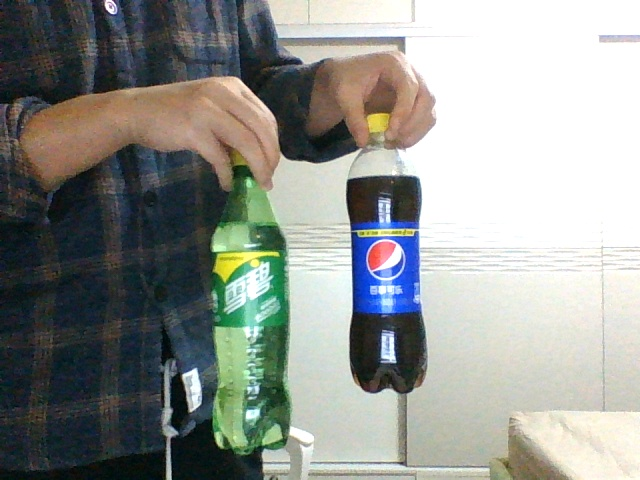Cola: (346, 111, 429, 393)
Sprite: (208, 149, 290, 453)
